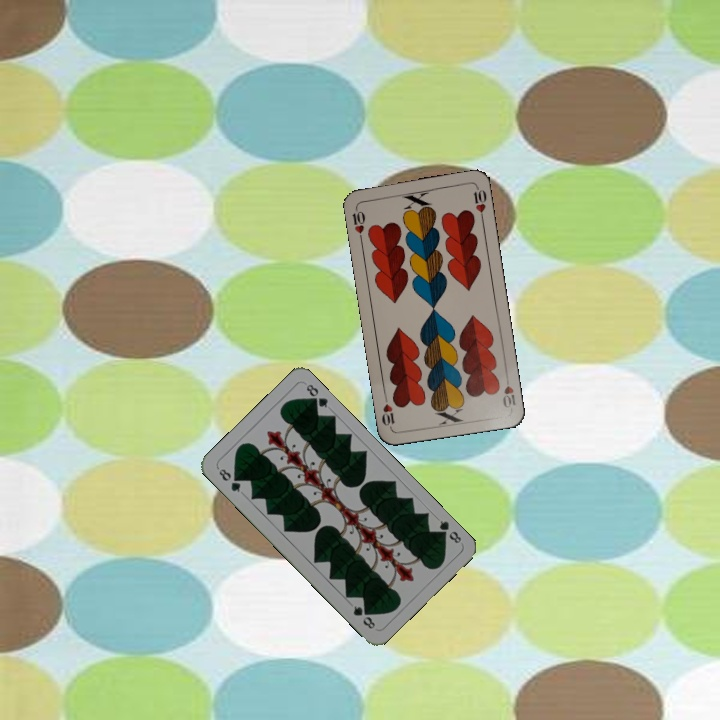G8: (434, 516, 464, 546), (215, 464, 243, 495)
H10: (499, 371, 519, 411), (348, 203, 368, 243)
